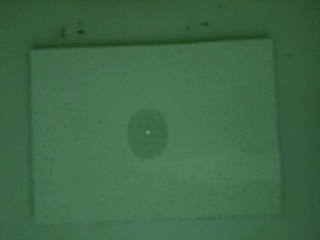Water_detected: (127, 114, 166, 163)
